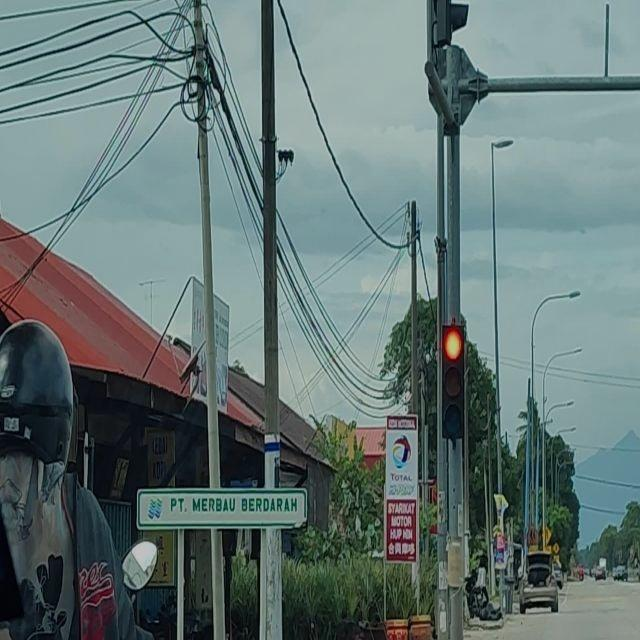Red: (440, 322, 464, 438)
